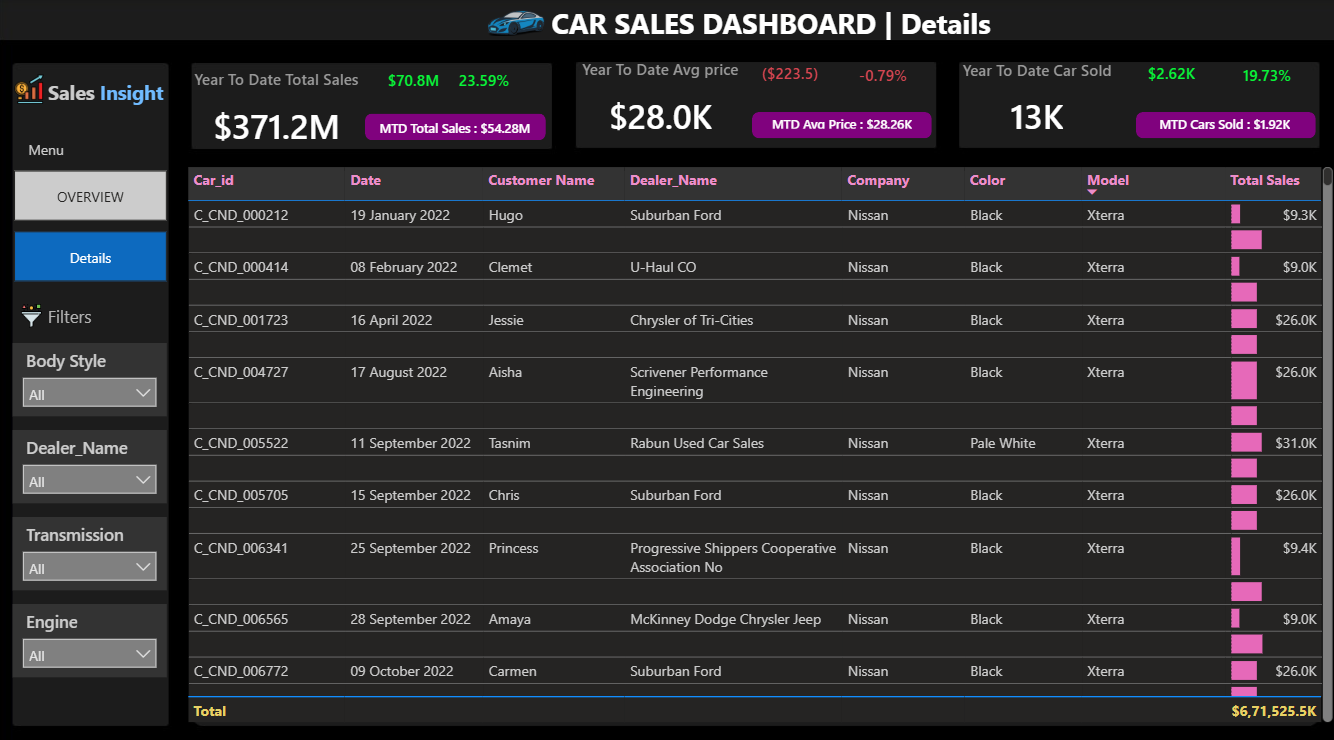

The dashboard page shown, as its layout file describes it:
{"tool":"powerbi","page":{"name":"Details","canvas":[1280,720],"ordinal":1},"visuals":[{"type":"shape","box":[1088.3,108.3,171.7,25],"z":0},{"type":"shape","box":[721.7,108.3,171.7,25],"z":1000},{"type":"cardVisual","title":"MTD KPI","fields":{"Data":["car_data.MTD Avg Price KPI"]},"box":[705,96.7,206.7,46.7],"z":2000},{"type":"shape","box":[352.7,110,172.7,25.5],"z":3000},{"type":"cardVisual","title":"Year To Date Total Sales","fields":{"Data":["car_data.YTD Total Sales"]},"box":[176.7,66.7,183.3,86.7],"z":4000},{"type":"cardVisual","fields":{"Data":["car_data.Sale Difference"]},"box":[344.4,51.1,110,50],"z":5000},{"type":"cardVisual","fields":{"Data":["car_data.YoY Sales Growth"]},"box":[411.1,51.1,110,50],"z":6000},{"type":"cardVisual","title":"MTD KPI","fields":{"Data":["car_data.MTD KPI"]},"box":[335,98.3,206.7,48.3],"z":7000},{"type":"cardVisual","title":"Year To Date Avg price","fields":{"Data":["car_data.YTD Avg Price"]},"box":[542,58,186,86],"z":8000},{"type":"cardVisual","fields":{"Data":["car_data.Avg Price Diff"]},"box":[691.7,45,133.3,53.3],"z":9000},{"type":"cardVisual","fields":{"Data":["car_data.YoY Avg Price Growth"]},"box":[791.7,46.7,110,50],"z":10000},{"type":"cardVisual","title":"Year To Date Car Sold","fields":{"Data":["car_data.YTD Cars Sold"]},"box":[901.7,58.3,186.7,85],"z":11000},{"type":"cardVisual","fields":{"Data":["car_data.Cars Sold Diff"]},"box":[1060,45,125,53.3],"z":12000},{"type":"cardVisual","fields":{"Data":["car_data.YoY Car Sold Growth"]},"box":[1158.3,46.7,110,50],"z":13000},{"type":"cardVisual","title":"MTD KPI","fields":{"Data":["car_data.MTD Cars Sold KPI"]},"box":[1074.3,97.1,198.6,45.7],"z":14000},{"type":"textbox","box":[513.3,0,454.4,46.7],"z":15000},{"type":"image","box":[468.9,2.2,56.7,37.8],"z":16000},{"type":"textbox","box":[44.4,287.6,71.1,31.1],"z":17000},{"type":"tableEx","fields":{"Values":["car_data.Car_id","car_data.Date","car_data.Customer Name","car_data.Dealer_Name","car_data.Company","car_data.Color","car_data.Model","Sum(car_data.Price ($))"]},"box":[177.2,156.1,1103.5,540.4],"z":18000},{"type":"textbox","box":[38.9,71.1,132.2,35.6],"z":19000},{"type":"textbox","box":[25.7,130,44.3,30],"z":20000},{"type":"pageNavigator","box":[16.7,164.4,146.7,106.7],"z":21000},{"type":"slicer","fields":{"Values":["car_data.Body Style"]},"box":[15.7,328.9,147.1,70],"z":22000},{"type":"slicer","fields":{"Values":["car_data.Dealer_Name"]},"box":[15.7,413.2,147.1,70],"z":23000},{"type":"slicer","fields":{"Values":["car_data.Transmission"]},"box":[15.7,496,147.1,70],"z":24000},{"type":"slicer","fields":{"Values":["car_data.Engine"]},"box":[15.7,578.9,147.1,70],"z":25000},{"type":"image","box":[21.1,288.8,24.4,28.9],"z":26000},{"type":"image","box":[14.4,73.3,34.4,27.8],"z":27000}]}

Visuals, with their boxes in screenshot pixels (x1, y1, x2, y2), scaled from the page's 1280x720 canvas onto the 1334x740 screenshot:
shape: (1134,111,1313,137)
shape: (752,111,931,137)
"MTD KPI" cardVisual: (735,99,950,147)
shape: (368,113,548,139)
"Year To Date Total Sales" cardVisual: (184,69,375,158)
cardVisual - car_data.Sale Difference: (359,53,474,104)
cardVisual - car_data.YoY Sales Growth: (428,53,543,104)
"MTD KPI" cardVisual: (349,101,565,151)
"Year To Date Avg price" cardVisual: (565,60,759,148)
cardVisual - car_data.Avg Price Diff: (721,46,860,101)
cardVisual - car_data.YoY Avg Price Growth: (825,48,940,99)
"Year To Date Car Sold" cardVisual: (940,60,1134,147)
cardVisual - car_data.Cars Sold Diff: (1105,46,1235,101)
cardVisual - car_data.YoY Car Sold Growth: (1207,48,1322,99)
"MTD KPI" cardVisual: (1120,100,1327,147)
textbox: (535,0,1009,48)
image: (489,2,548,41)
textbox: (46,296,120,328)
tableEx - car_data.Car_id x car_data.Date: (185,160,1333,716)
textbox: (41,73,178,110)
textbox: (27,134,73,164)
pageNavigator: (17,169,170,279)
slicer - car_data.Body Style: (16,338,170,410)
slicer - car_data.Dealer_Name: (16,425,170,497)
slicer - car_data.Transmission: (16,510,170,582)
slicer - car_data.Engine: (16,595,170,667)
image: (22,297,47,327)
image: (15,75,51,104)
